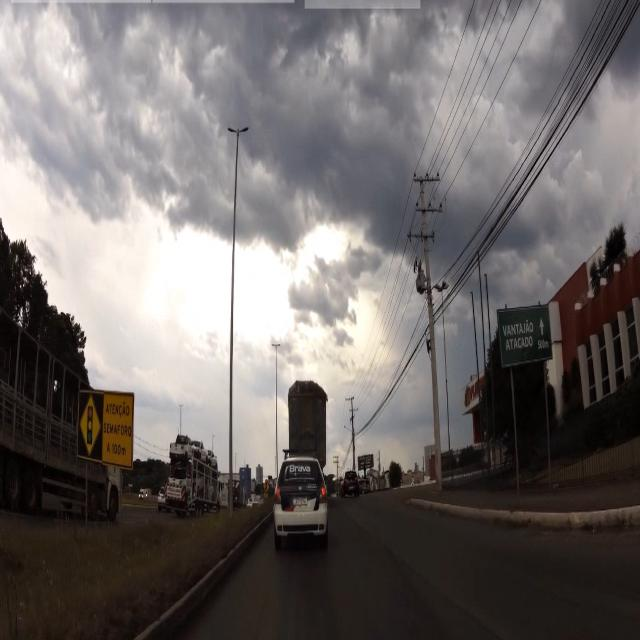A-14: (80, 396, 102, 458)
